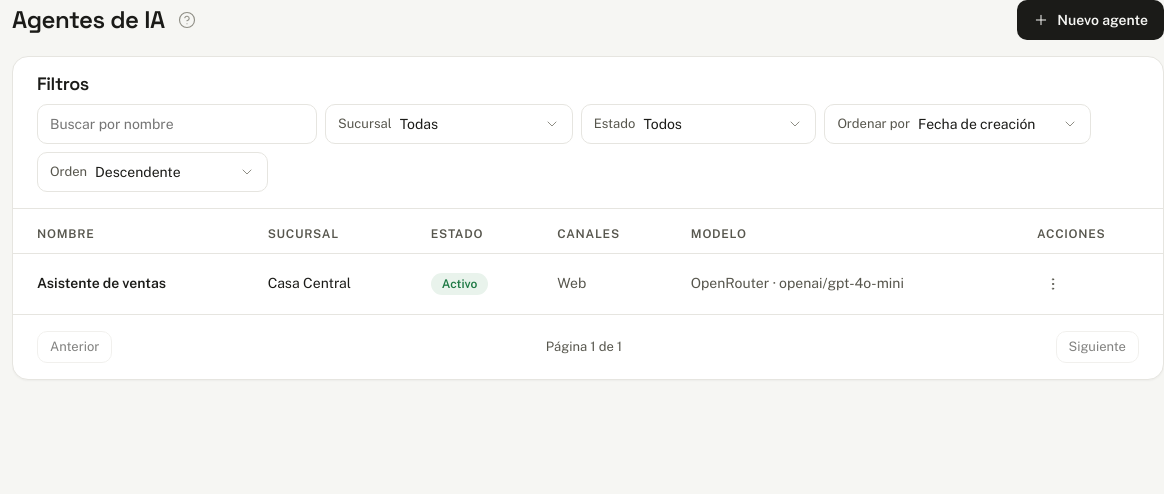
Test: AgentListPage › no gatea nada por rol: la pantalla entera es ADMIN-only por ruta
Click the button named "Más acciones".
click(1053, 284)  # box [1037, 268, 1069, 300]
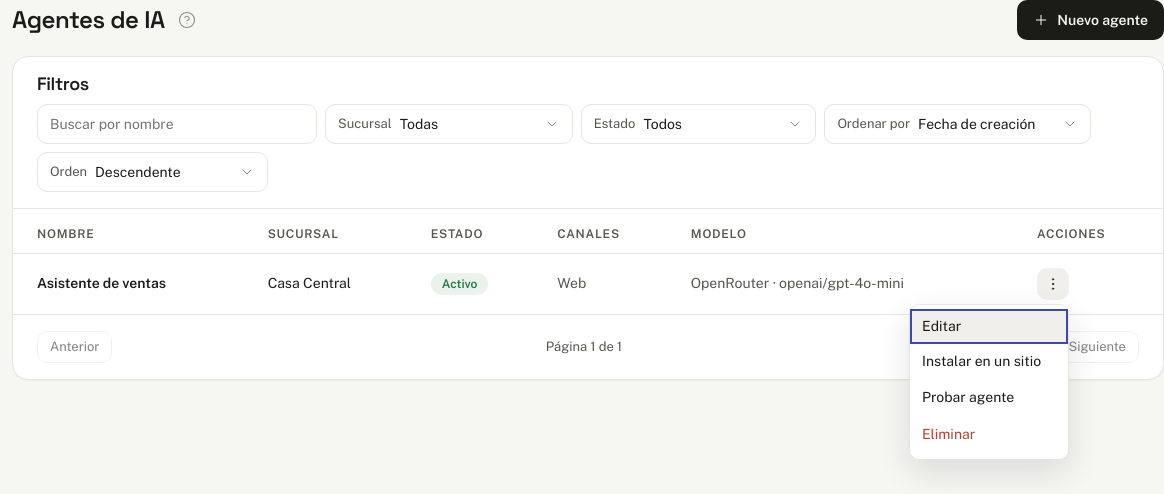
Check: the menu item "Eliminar" is shown, box [910, 415, 1068, 455]
